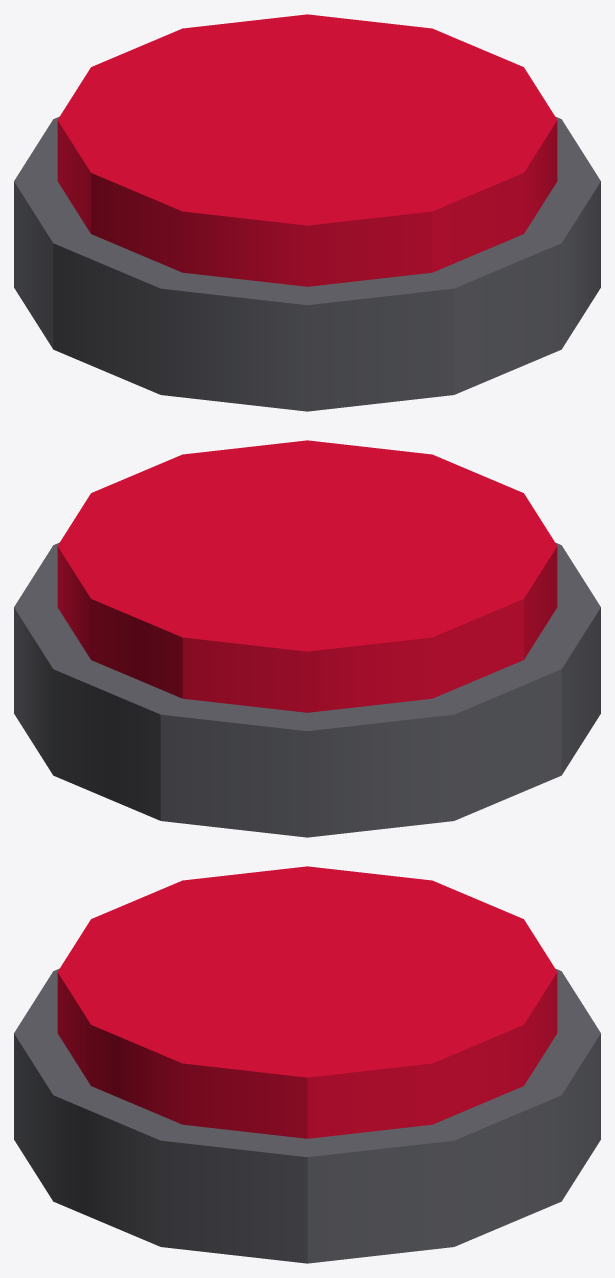
File: Button.fbx
3 views of the same model, one above another, from view 1: azimuth 30°, elevation 25°; view 2: azimuth 150°, elevation 25°; view 3: azimuth 270°, elevation 25° (orthographic).
Parts seen in each view (by area): view 1: Circle; view 2: Circle; view 3: Circle.
Boxes of the visible parts, x1,y1,x2,y2 form: Circle: (14, 14, 600, 411); Circle: (14, 440, 600, 837); Circle: (14, 866, 600, 1263).
Size of the model in its own units: 200 by 63.01 by 200.
